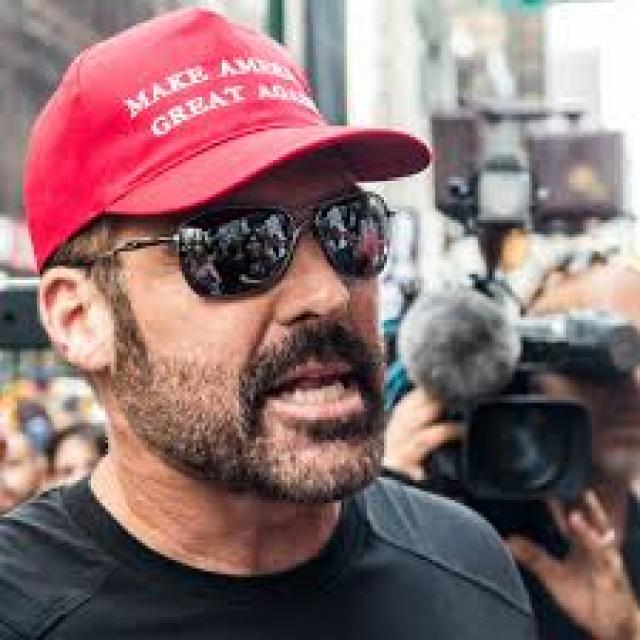3_gorra: (16, 10, 432, 259)
